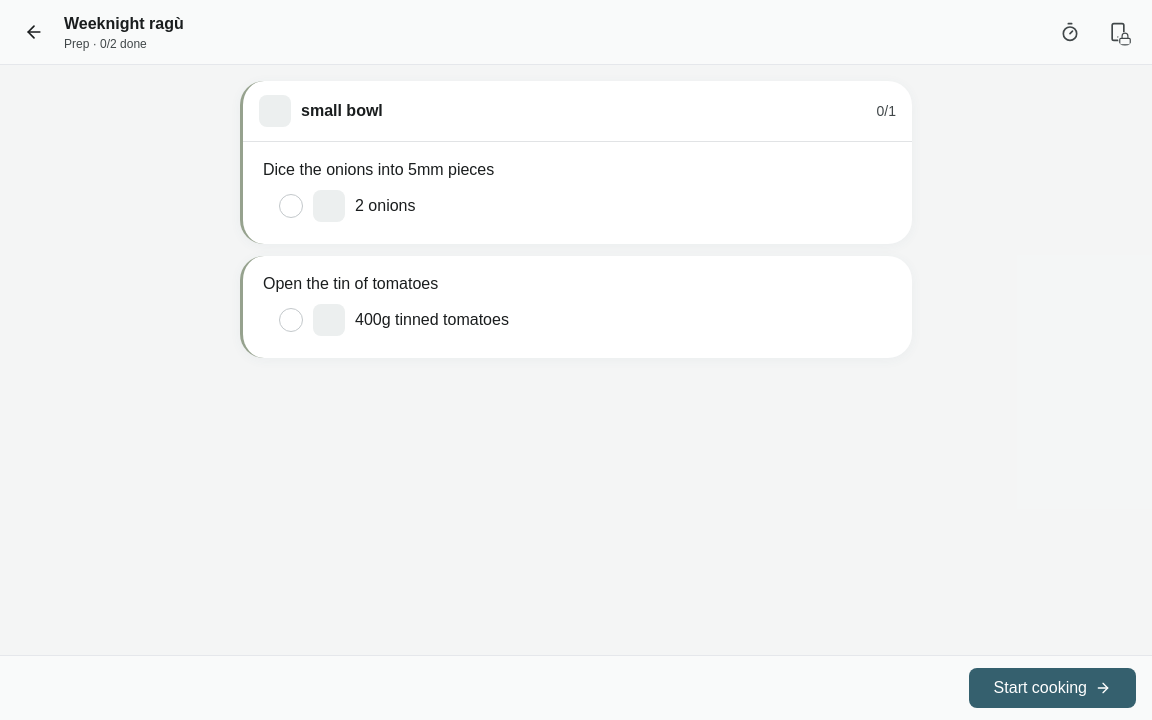
Test: GuidedCookPage — the steps carry the plan-s notes › renders no notes block for a step the plan says nothing about
Click the button with test id "cook-stage-toggle" at [1052, 688], box [969,668,1136,708]
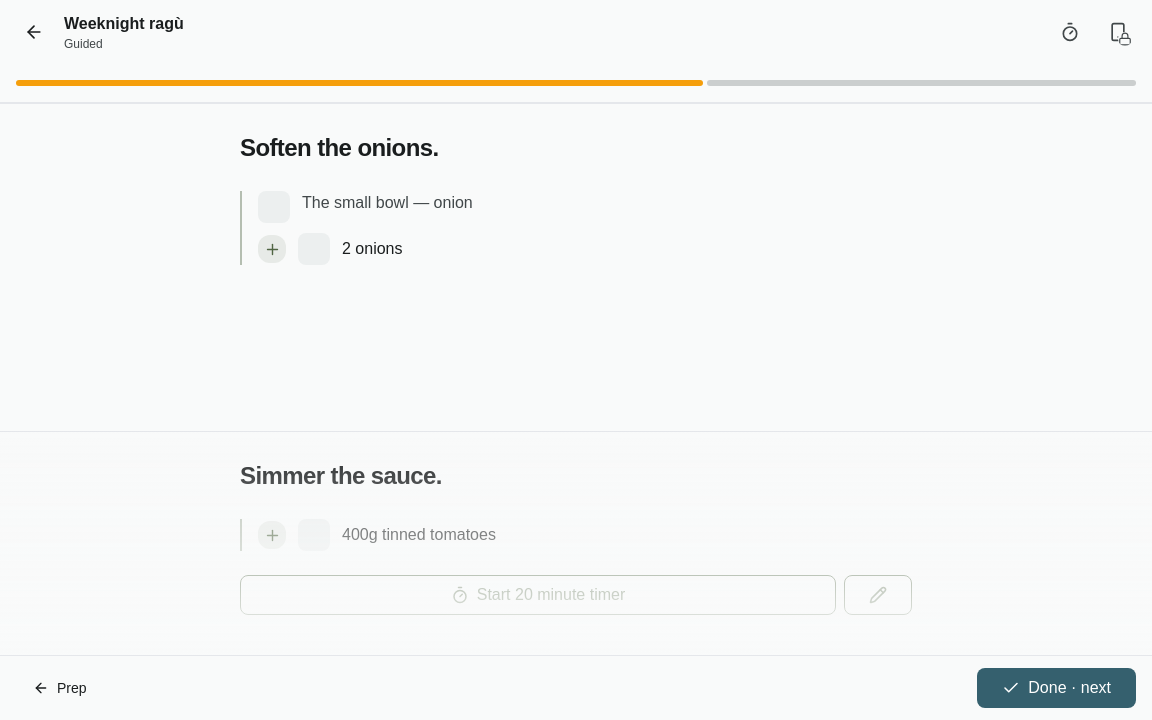
Now the element with test id "cook-steps-view" is shown
Now the number of list items with test id "guided-step-note-container" is 1, box [258,191,473,223]
